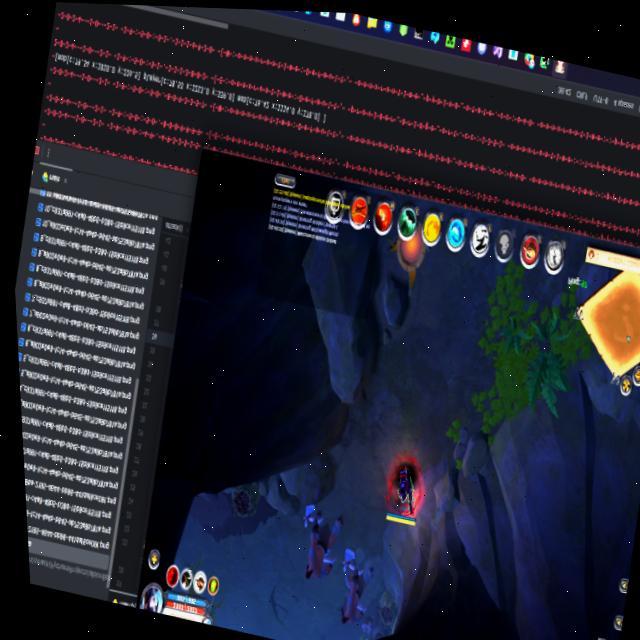ore: (284, 487, 360, 601), (322, 541, 392, 640)
red: (375, 446, 436, 535)
